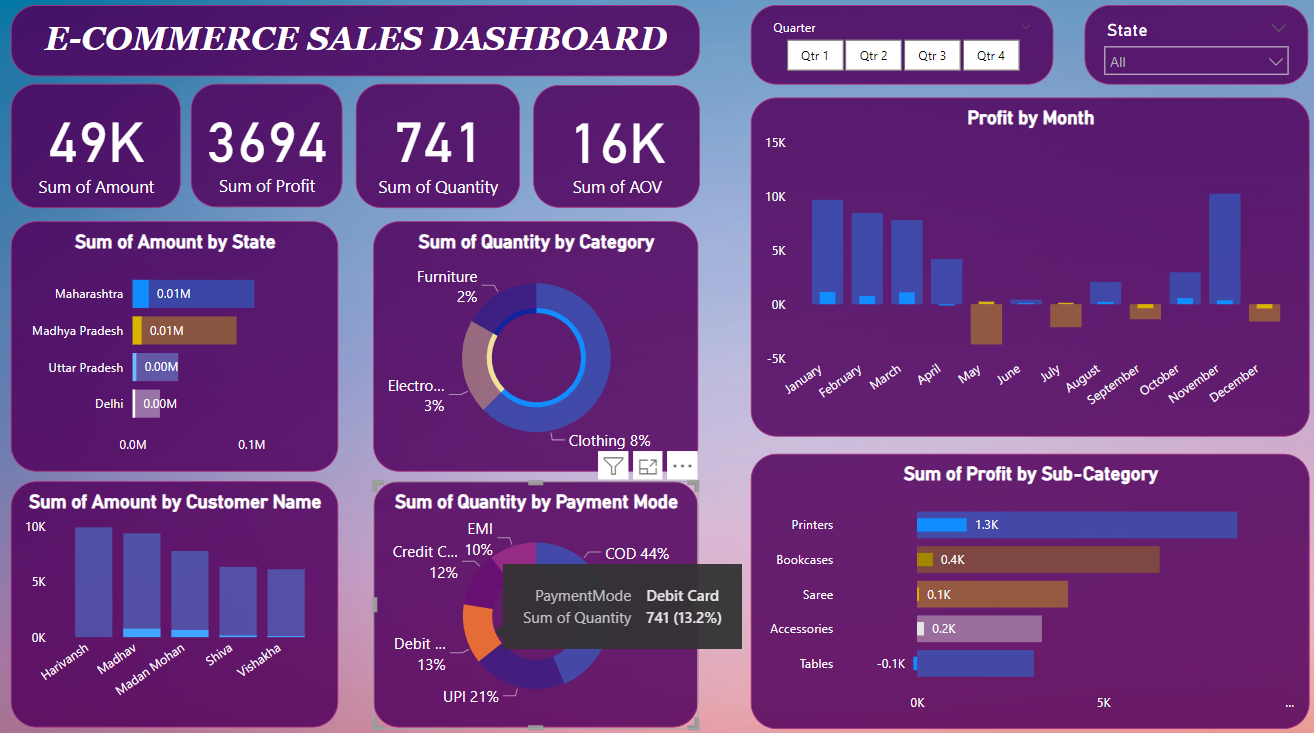

This screenshot's page, from the dashboard's own definition file:
{"tool":"powerbi","page":{"name":"Page 1","canvas":[1280,720],"ordinal":0},"visuals":[{"type":"textbox","box":[13.3,14.5,664.5,68.7],"z":0},{"type":"columnChart","title":"Profit by Month","fields":{"Category":["Orders.Order Date.Variation.Date Hierarchy.Month"],"Y":["Sum(Details.Profit)"]},"box":[727.2,103.7,539.1,326.8],"z":1000},{"type":"barChart","fields":{"Category":["Details.Sub-Category"],"Y":["Sum(Details.Profit)"]},"box":[726,445,539.1,266.5],"z":2000},{"type":"donutChart","fields":{"Category":["Details.Category"],"Y":["Sum(Details.Quantity)"]},"box":[363,223.1,313.6,241.2],"z":3000},{"type":"donutChart","title":"Sum of Quantity by Payment Mode","fields":{"Y":["Sum(Details.Quantity)"],"Category":["Details.PaymentMode"]},"box":[362.5,473.9,313.6,238.6],"z":4000},{"type":"card","fields":{"Values":["Sum(Details.Amount)"]},"box":[13,91,164,120],"z":5000},{"type":"card","fields":{"Values":["Sum(Details.Quantity)"]},"box":[346,90,158,120],"z":6000},{"type":"card","fields":{"Values":["Sum(Details.Profit)"]},"box":[187,91,146,119],"z":7000},{"type":"card","fields":{"Values":["Sum(Details.AOV)"]},"box":[517,92,161,118],"z":8000},{"type":"barChart","fields":{"Category":["Orders.State"],"Y":["Sum(Details.Amount)"]},"box":[13.3,223.1,316,241.2],"z":9000},{"type":"columnChart","title":"Sum of Amount by Customer Name","fields":{"Category":["Orders.CustomerName"],"Y":["Sum(Details.Amount)"]},"box":[13.6,473.9,315.9,238.6],"z":10000},{"type":"slicer","fields":{"Values":["Orders.Order Date.Variation.Date Hierarchy.Quarter"]},"box":[727.2,14.5,291.9,77.2],"z":11000},{"type":"slicer","fields":{"Values":["Orders.State"]},"box":[1049.2,14.5,215.9,77.2],"z":12000}]}

Visuals, with their boxes in screenshot pixels (x1, y1, x2, y2), scaled from the page's 1280x720 canvas onto the 1314x733 screenshot:
textbox: [left=14, top=15, right=696, bottom=85]
"Profit by Month" columnChart: [left=747, top=106, right=1300, bottom=438]
barChart - Details.Sub-Category x Sum(Details.Profit): [left=745, top=453, right=1299, bottom=724]
donutChart - Details.Category x Sum(Details.Quantity): [left=373, top=227, right=695, bottom=473]
"Sum of Quantity by Payment Mode" donutChart: [left=372, top=482, right=694, bottom=725]
card - Sum(Details.Amount): [left=13, top=93, right=182, bottom=215]
card - Sum(Details.Quantity): [left=355, top=92, right=517, bottom=214]
card - Sum(Details.Profit): [left=192, top=93, right=342, bottom=214]
card - Sum(Details.AOV): [left=531, top=94, right=696, bottom=214]
barChart - Orders.State x Sum(Details.Amount): [left=14, top=227, right=338, bottom=473]
"Sum of Amount by Customer Name" columnChart: [left=14, top=482, right=338, bottom=725]
slicer - Orders.Order Date.Variation.Date Hierarchy.Quarter: [left=747, top=15, right=1046, bottom=93]
slicer - Orders.State: [left=1077, top=15, right=1299, bottom=93]
